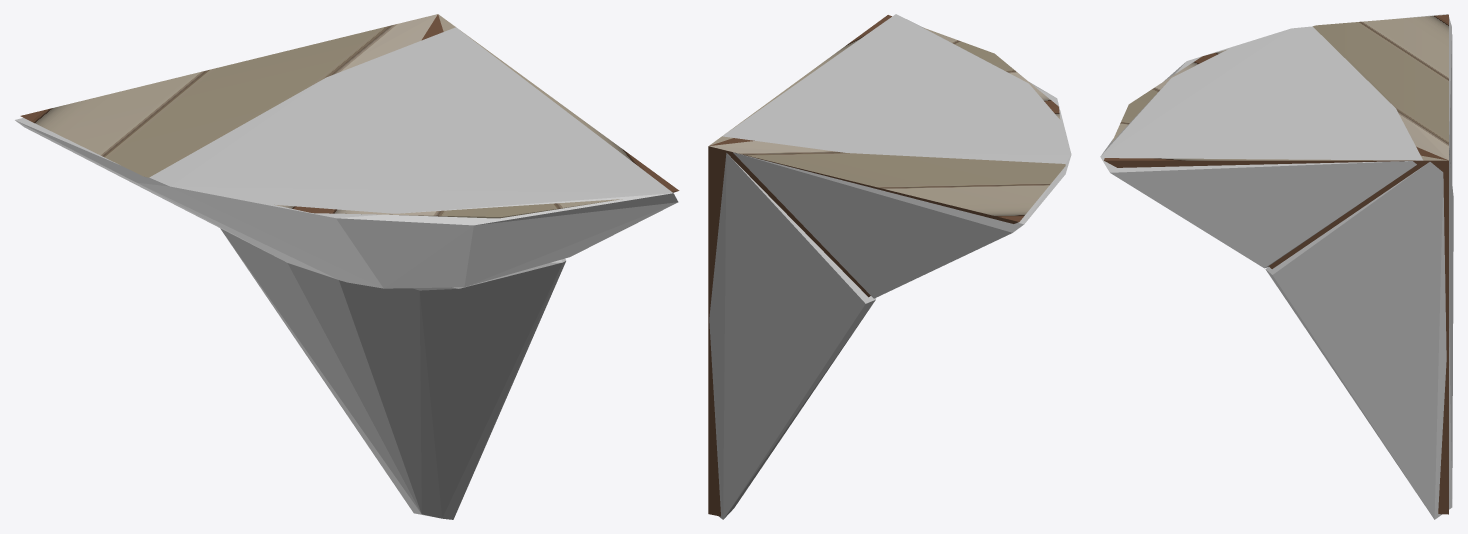
Rendered from SM_Bld_Balcony_Concave_Round_01.fbx.
3 views of the same model, side by side, from view 1: azimuth 30°, elevation 25°; view 2: azimuth 150°, elevation 25°; view 3: azimuth 270°, elevation 25° (orthographic). The views are drawn at different scales.
Visible parts, largest first — view 1: SM_Bld_Balcony_Concave_Round_01_ConvexHulls, SM_Bld_Balcony_Concave_Round_01; view 2: SM_Bld_Balcony_Concave_Round_01_ConvexHulls, SM_Bld_Balcony_Concave_Round_01; view 3: SM_Bld_Balcony_Concave_Round_01_ConvexHulls, SM_Bld_Balcony_Concave_Round_01.
Boxes of the visible parts, bbox=[...] form: SM_Bld_Balcony_Concave_Round_01_ConvexHulls: bbox=[15, 27, 678, 519]; SM_Bld_Balcony_Concave_Round_01: bbox=[20, 14, 679, 218]; SM_Bld_Balcony_Concave_Round_01_ConvexHulls: bbox=[709, 14, 1071, 519]; SM_Bld_Balcony_Concave_Round_01: bbox=[708, 15, 1065, 516]; SM_Bld_Balcony_Concave_Round_01_ConvexHulls: bbox=[1100, 14, 1453, 519]; SM_Bld_Balcony_Concave_Round_01: bbox=[1104, 14, 1448, 514].
Bounding box in the file's own units: 268 × 267 × 299.
2 materials, 1 textured.
